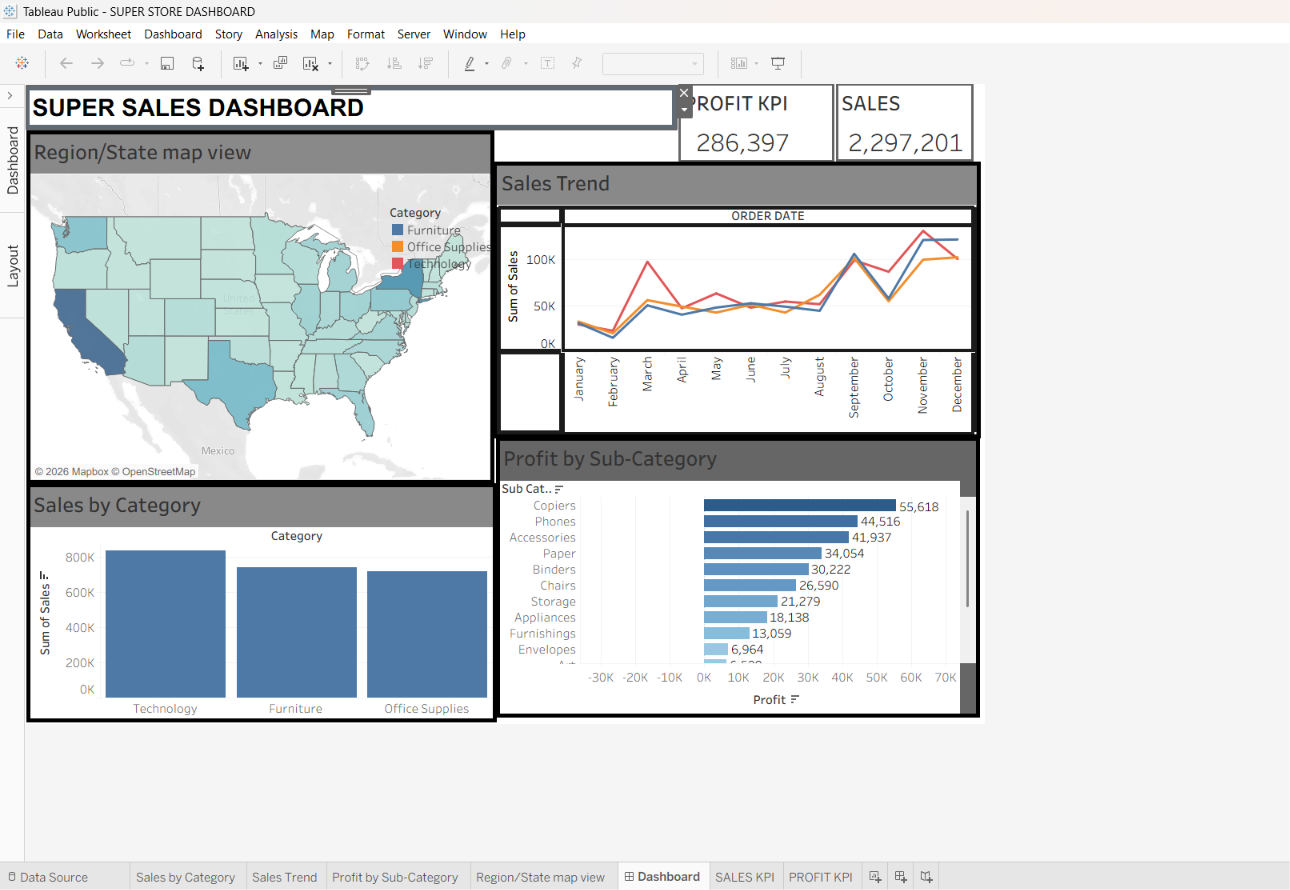

The page's visual inventory and layout, read from the dashboard file:
{"tool":"tableau","page":{"name":"Dashboard ","canvas":[1200,800],"ordinal":0},"visuals":[{"type":"text","box":[1,3,813,53]},{"type":"worksheet","title":"Region/State map view","mark":"Multipolygon","box":[2,58,585,442]},{"type":"worksheet","title":"Sales Trend","mark":"Line","rows":["SALES"],"cols":["ORDER DATE"],"box":[585,97,610,346]},{"type":"legend","title":"Sales Trend","param":"[federated.1n3fgfy0qgrfsz1gupls91od64lb].[none:CATEGORY:nk]","box":[456,150,140,85]},{"type":"worksheet","title":"Profit by Sub-Category","mark":"Automatic","rows":["SUB CATEGORY"],"cols":["PROFIT"],"box":[589,441,605,351]},{"type":"worksheet","title":"Sales by Category","mark":"Automatic","rows":["SALES"],"cols":["CATEGORY"],"box":[2,499,588,299]}]}

Visuals, with their boxes on the page's 1200x800 design canvas (x1, y1, x2, y2). These are canvas units, not pixel positions in the 1290x890 screenshot, which may show the page scaled, cropped or inside an application window:
text: bbox=[1, 3, 814, 56]
"Region/State map view" worksheet (Multipolygon marks): bbox=[2, 58, 587, 500]
"Sales Trend" worksheet (Line marks): bbox=[585, 97, 1195, 443]
"Sales Trend" legend: bbox=[456, 150, 596, 235]
"Profit by Sub-Category" worksheet: bbox=[589, 441, 1194, 792]
"Sales by Category" worksheet: bbox=[2, 499, 590, 798]
